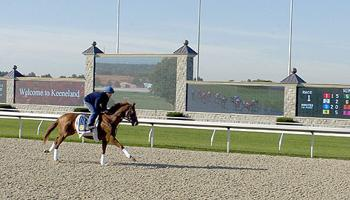person: (84, 85, 117, 130)
